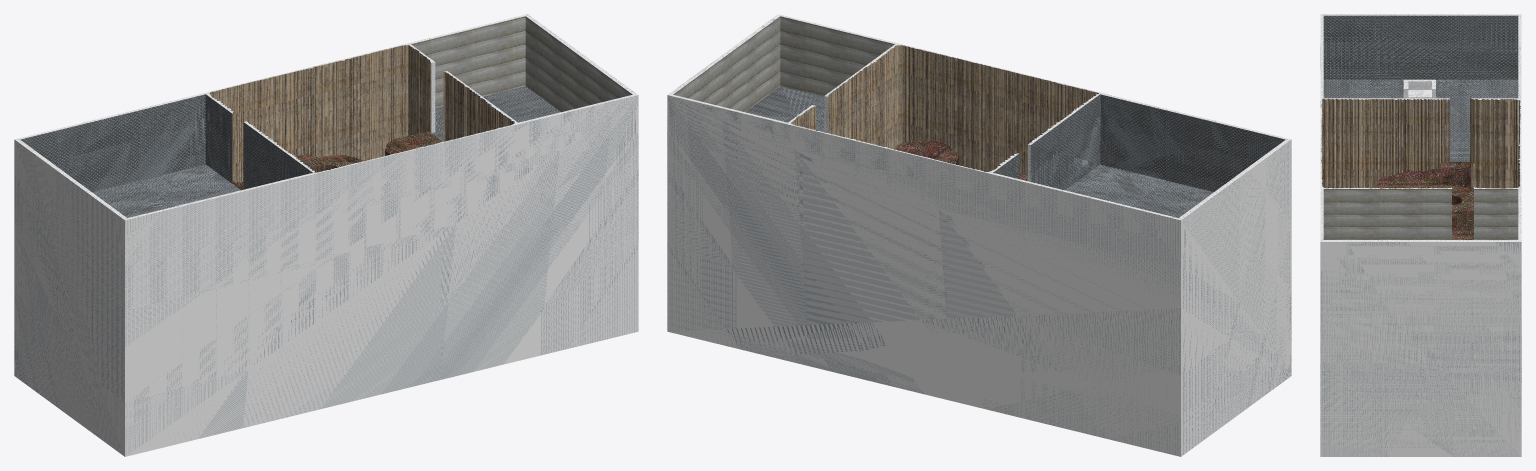
Rendered from room.dae.
The picture shows the model from 3 angles, left to right: view 1: azimuth 30°, elevation 25°; view 2: azimuth 150°, elevation 25°; view 3: azimuth 270°, elevation 25°; orthographic projection. The views are drawn at different scales.
Parts seen in each view (by area): view 1: SketchUp (×7); view 2: SketchUp (×6); view 3: SketchUp (×7).
Part boxes in pixels (<box>): SketchUp (×7): <box>14,14,638,456</box>; SketchUp (×6): <box>667,14,1291,456</box>; SketchUp (×7): <box>1320,14,1521,456</box>.
Size of the model in its own units: 1242 by 463 by 547.
Materials: 8 (5 with a texture image).
